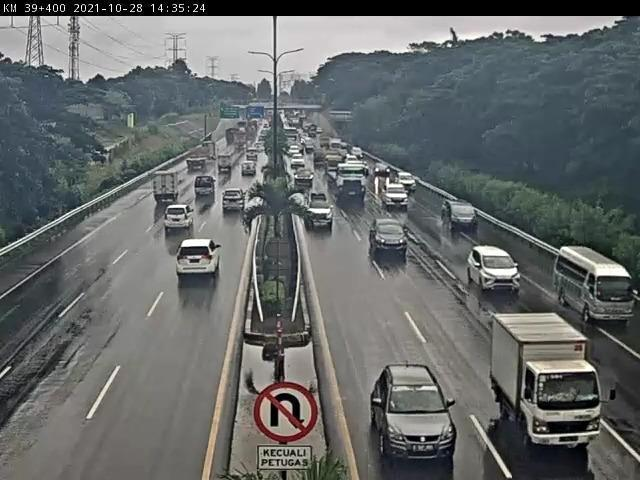car: (361, 362, 474, 466), (461, 242, 530, 300), (174, 235, 228, 281), (364, 213, 412, 261), (437, 193, 487, 238), (299, 199, 335, 239), (160, 205, 200, 233), (223, 182, 251, 218), (379, 181, 412, 210), (395, 170, 419, 197), (193, 172, 217, 199), (291, 167, 320, 189), (215, 152, 237, 179), (373, 160, 394, 179), (240, 161, 259, 182)
truck: (482, 312, 605, 454), (550, 238, 640, 333), (327, 162, 372, 209), (152, 170, 184, 204)
